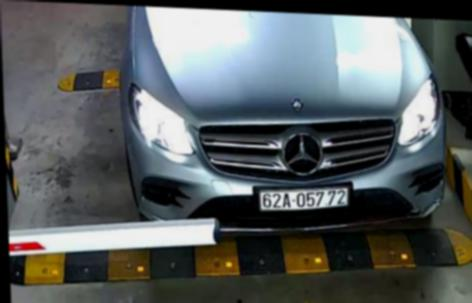License_Plate: (256, 182, 352, 215)
